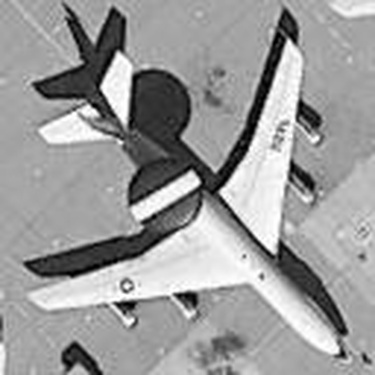airplane: (17, 13, 361, 366)
